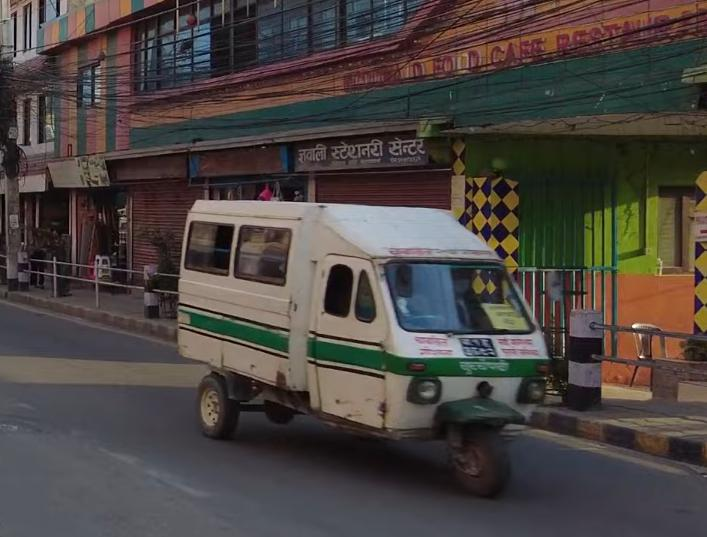tempo: (172, 194, 553, 501)
